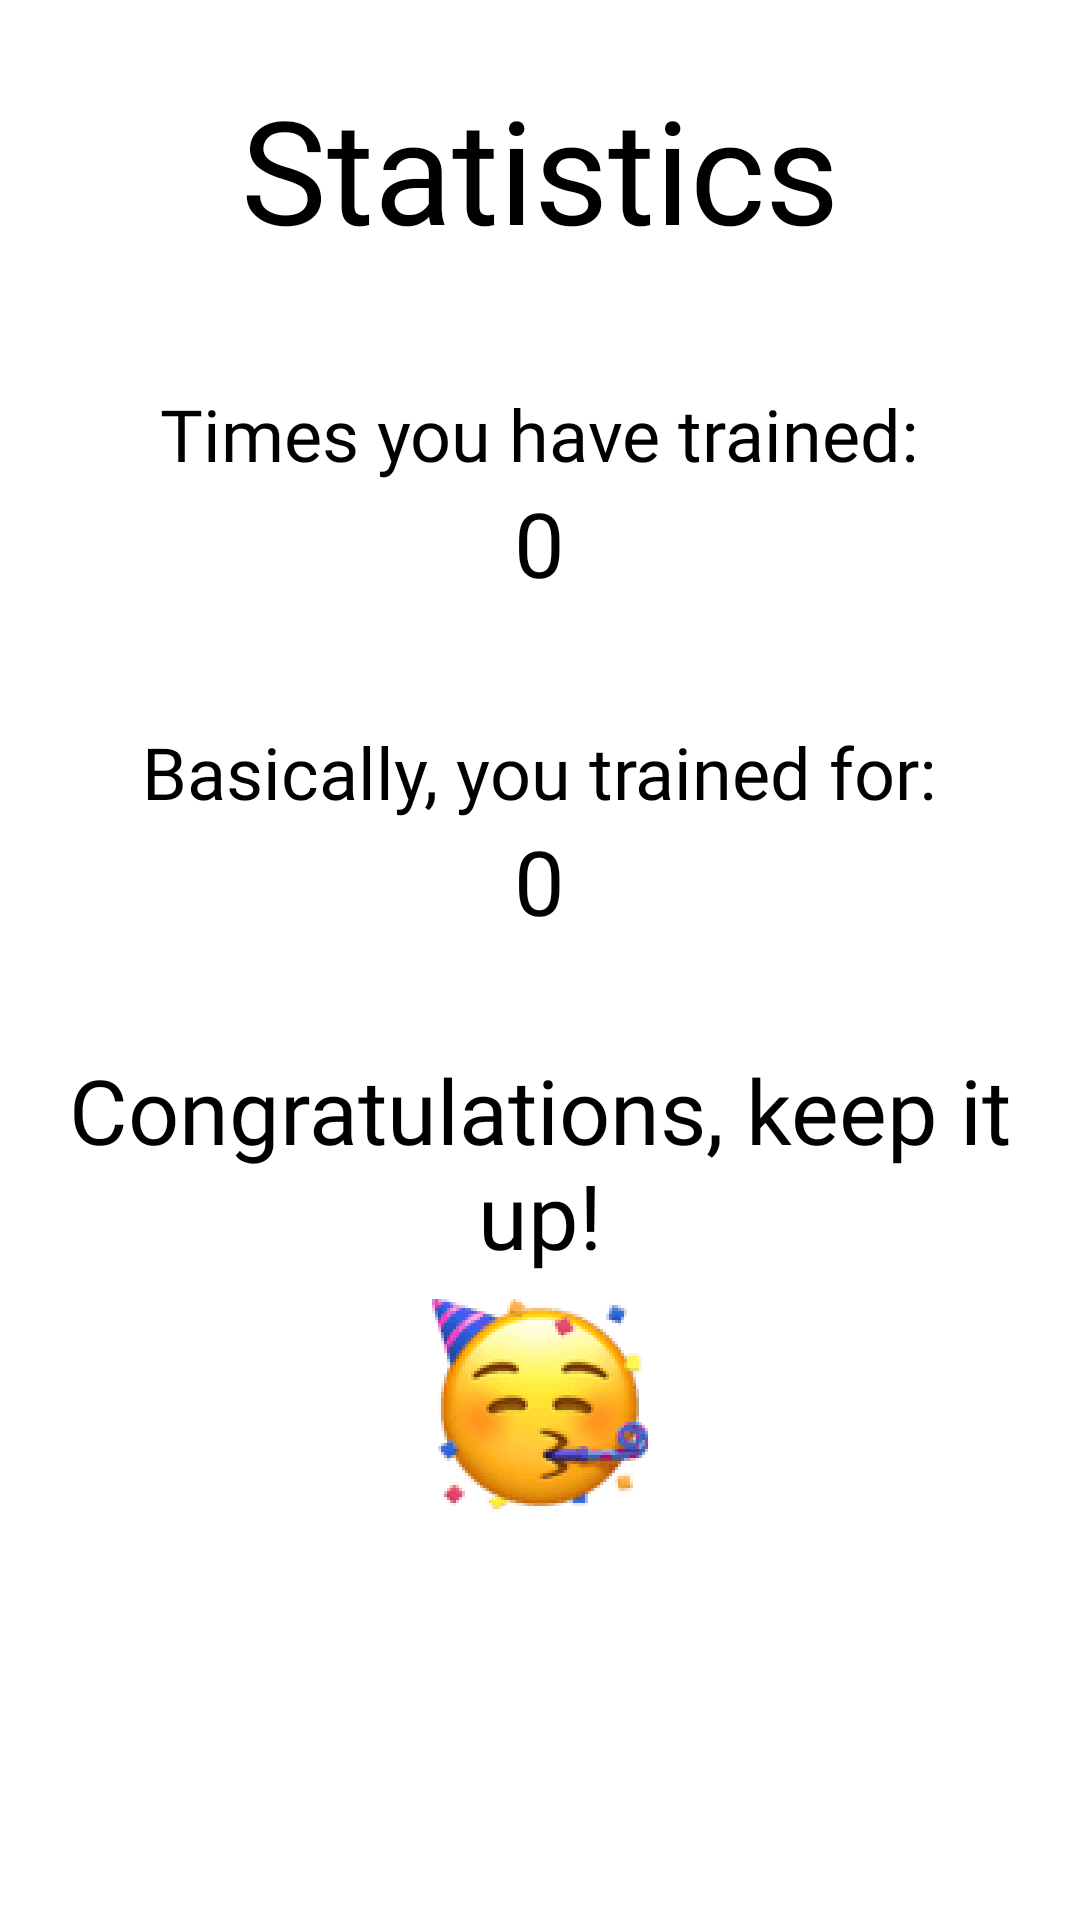

Icon click points for this 1080*1920 phone screenshot, format (x,y):
party emoji: (540,1404)
